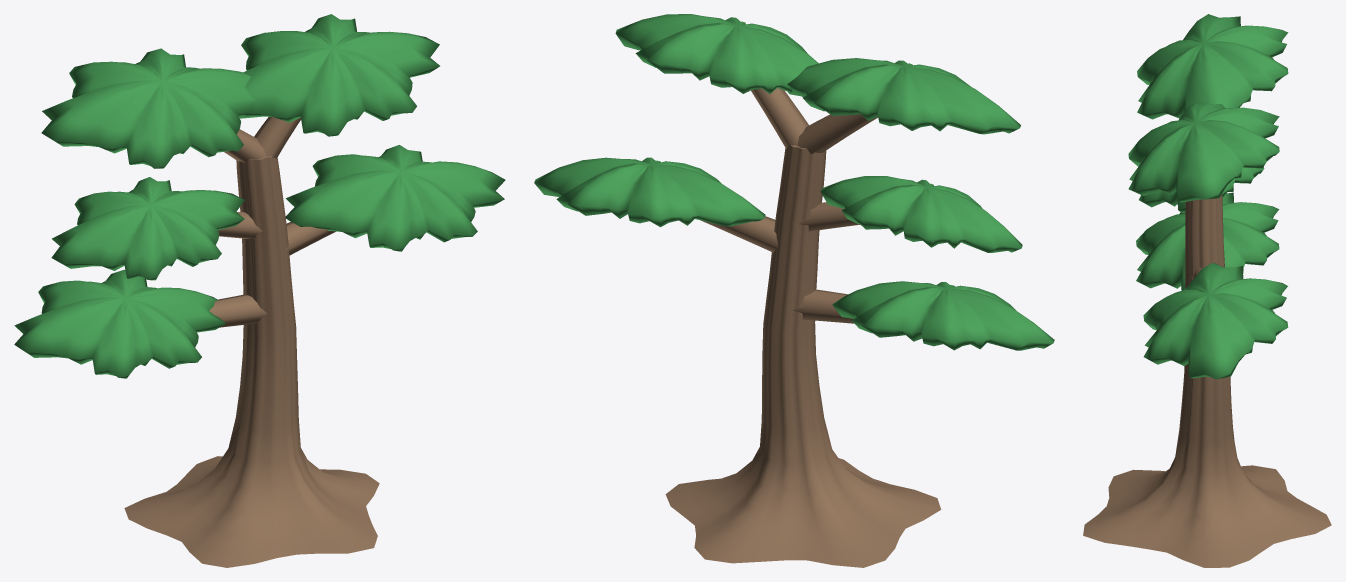
Rendered from arvore de brinquedo3.fbx.
3 views of the same model, side by side, from view 1: azimuth 30°, elevation 25°; view 2: azimuth 150°, elevation 25°; view 3: azimuth 270°, elevation 25° (orthographic). The views are drawn at different scales.
Visible parts, largest first — view 1: SM_PlasticToyTree; view 2: SM_PlasticToyTree; view 3: SM_PlasticToyTree.
Part boxes in pixels (<box>): SM_PlasticToyTree: <box>14,14,505,567</box>; SM_PlasticToyTree: <box>534,14,1054,567</box>; SM_PlasticToyTree: <box>1083,14,1331,567</box>.
Bounding box in the file's own units: 2.56 × 2.28 × 1.19.
